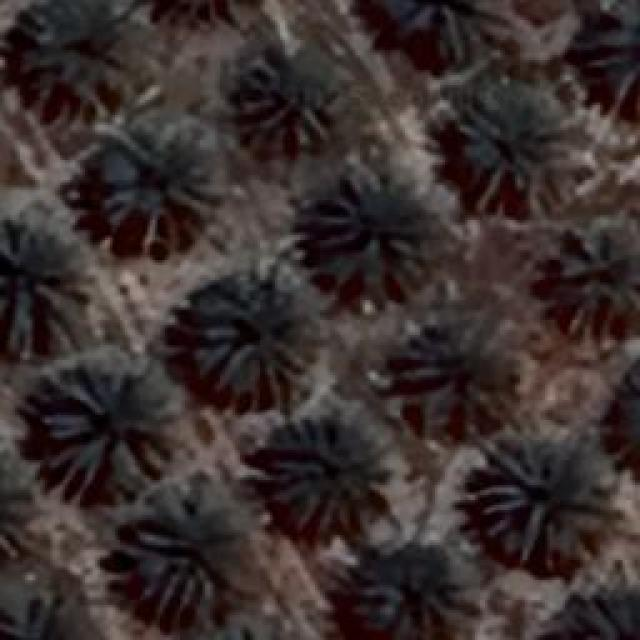PalmTree: (470, 428, 615, 562), (40, 367, 180, 495), (125, 482, 258, 610), (455, 80, 590, 205), (262, 407, 390, 535), (187, 280, 315, 408), (314, 160, 428, 302), (100, 125, 218, 247), (0, 212, 88, 352), (20, 0, 130, 110), (352, 545, 476, 640), (358, 0, 506, 78), (398, 326, 512, 424), (238, 50, 338, 150), (560, 220, 638, 322), (0, 555, 78, 640), (580, 2, 635, 108), (540, 587, 640, 640), (603, 348, 640, 488), (133, 0, 270, 36), (0, 434, 39, 558), (161, 610, 308, 640)
